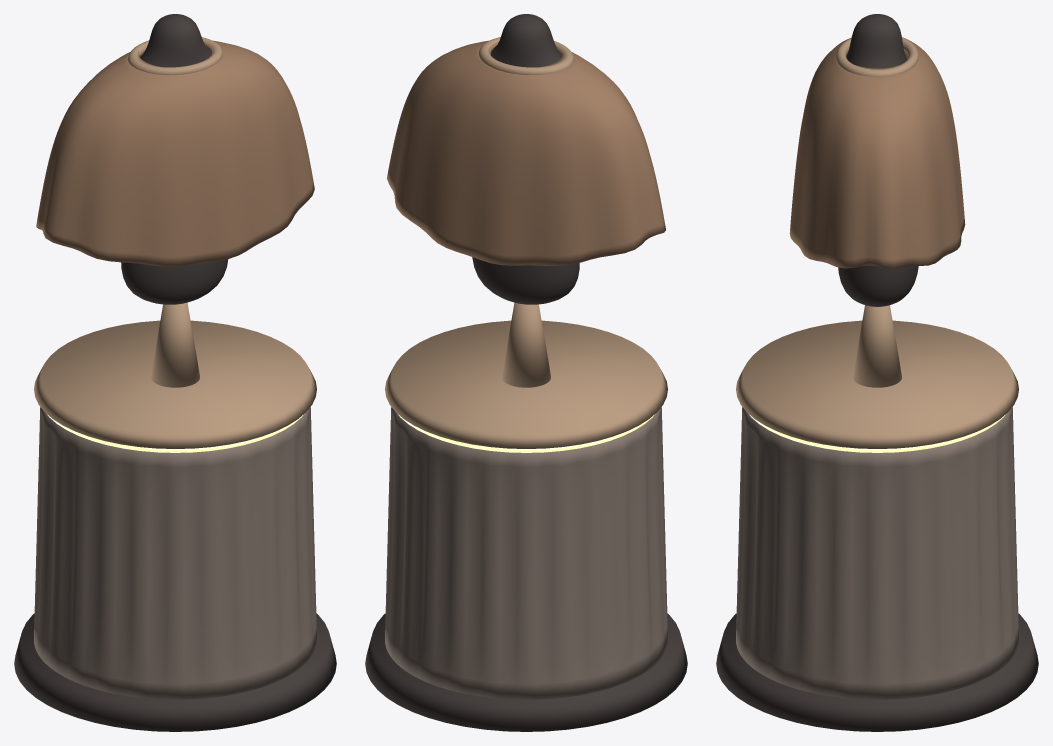
File: anieze_couture_bust.glb
The picture shows the model from 3 angles, left to right: view 1: azimuth 30°, elevation 25°; view 2: azimuth 150°, elevation 25°; view 3: azimuth 270°, elevation 25°; orthographic projection.
Visible parts, largest first — view 1: Plinth_Fluted_Column, Agbada_Draped_Mantle, Plinth_Bronze_Cap, Plinth_Base, Couture_Torso, Bronze_Riser_Stem, Agbada_Bronze_Collar, Plinth_Glow_Inlay; view 2: Plinth_Fluted_Column, Agbada_Draped_Mantle, Plinth_Bronze_Cap, Plinth_Base, Couture_Torso, Bronze_Riser_Stem, Agbada_Bronze_Collar, Plinth_Glow_Inlay; view 3: Plinth_Fluted_Column, Agbada_Draped_Mantle, Plinth_Bronze_Cap, Plinth_Base, Couture_Torso, Bronze_Riser_Stem, Agbada_Bronze_Collar, Plinth_Glow_Inlay.
Boxes of the visible parts, bbox=[...] form: Plinth_Fluted_Column: bbox=[34, 407, 316, 699]; Agbada_Draped_Mantle: bbox=[36, 40, 314, 266]; Plinth_Bronze_Cap: bbox=[34, 320, 316, 448]; Plinth_Base: bbox=[14, 613, 336, 731]; Couture_Torso: bbox=[121, 14, 228, 304]; Bronze_Riser_Stem: bbox=[151, 302, 199, 387]; Agbada_Bronze_Collar: bbox=[128, 37, 222, 75]; Plinth_Glow_Inlay: bbox=[47, 414, 303, 452]; Plinth_Fluted_Column: bbox=[385, 407, 667, 699]; Agbada_Draped_Mantle: bbox=[387, 40, 665, 265]; Plinth_Bronze_Cap: bbox=[385, 320, 667, 448]; Plinth_Base: bbox=[365, 613, 687, 731]; Couture_Torso: bbox=[472, 14, 579, 304]; Bronze_Riser_Stem: bbox=[502, 302, 550, 387]; Agbada_Bronze_Collar: bbox=[479, 37, 573, 75]; Plinth_Glow_Inlay: bbox=[398, 414, 654, 452]; Plinth_Fluted_Column: bbox=[736, 407, 1018, 699]; Agbada_Draped_Mantle: bbox=[789, 37, 965, 268]; Plinth_Bronze_Cap: bbox=[736, 320, 1018, 448]; Plinth_Base: bbox=[716, 613, 1038, 731]; Couture_Torso: bbox=[838, 14, 918, 306]; Bronze_Riser_Stem: bbox=[853, 305, 901, 387]; Agbada_Bronze_Collar: bbox=[836, 37, 918, 76]; Plinth_Glow_Inlay: bbox=[749, 414, 1005, 452].
Size of the model in its own units: 0.98 by 2.17 by 0.98.
